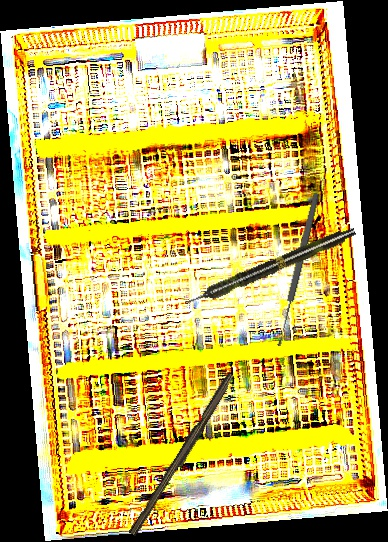Handpiece: (182, 223, 358, 311)
Scalpel Handle: (128, 370, 238, 540)
Surgical Spoon: (274, 192, 321, 347)
